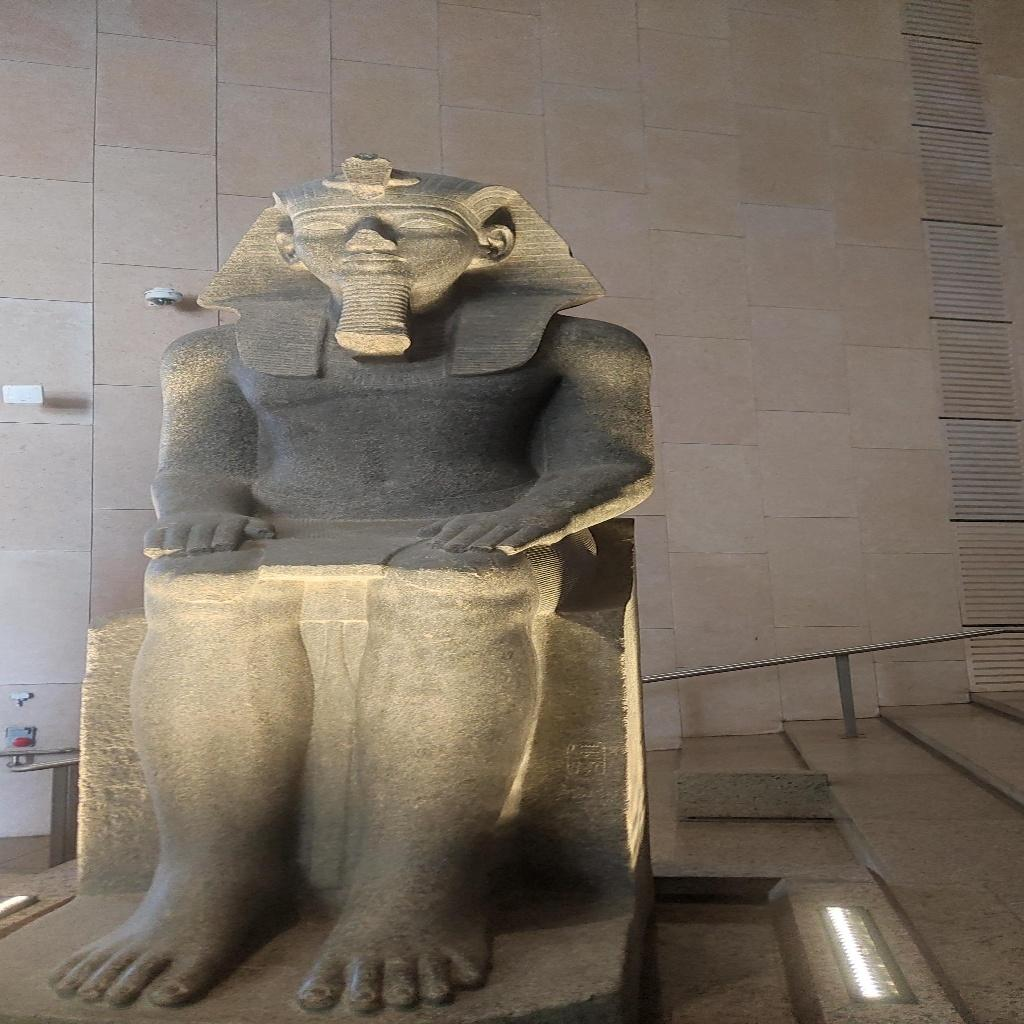Seated Statue of Amenhotep III: (64, 150, 664, 1016)
